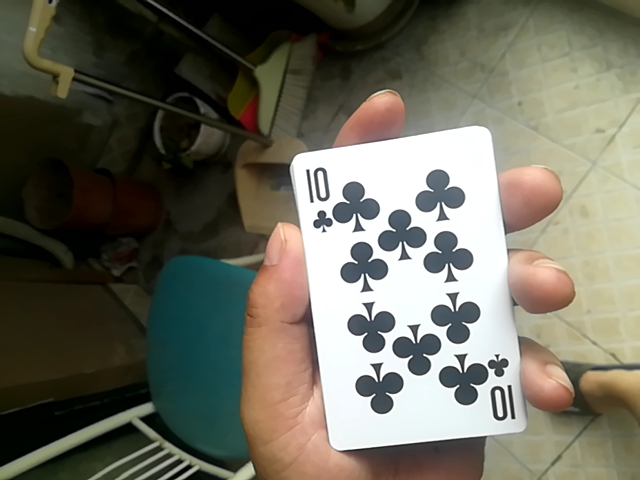mh 10: (298, 134, 534, 455)
